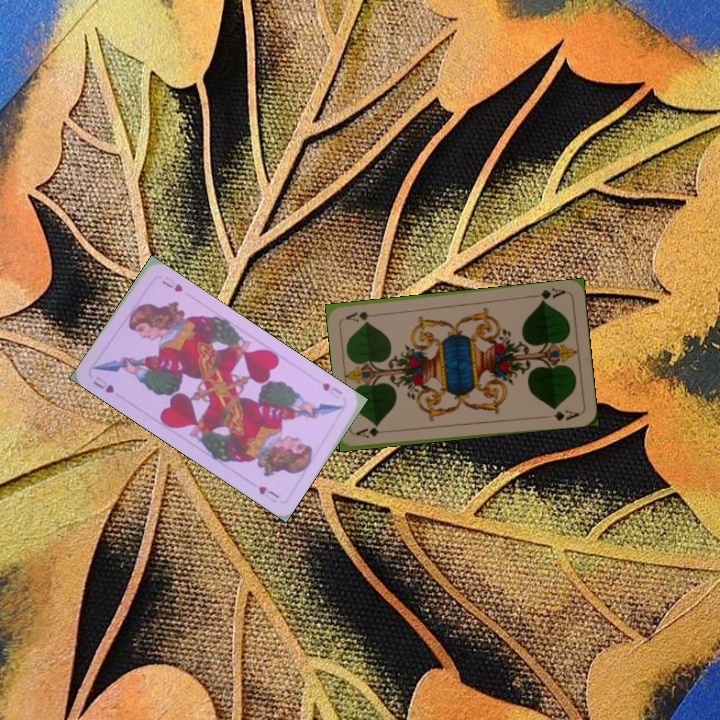GA: (528, 284, 568, 305), (353, 424, 393, 441)
HU: (89, 372, 117, 396), (317, 379, 345, 397)
